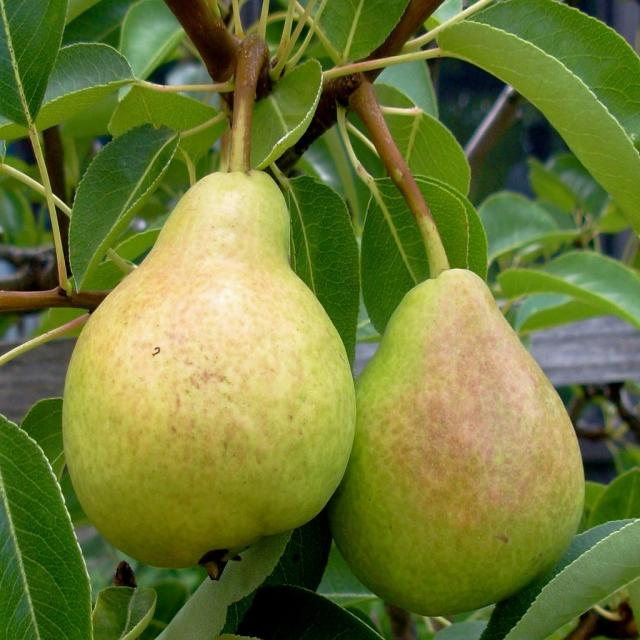paer: (50, 109, 365, 609), (333, 169, 602, 627)
